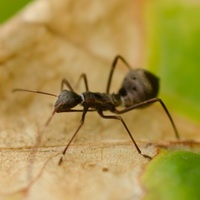insect: (13, 55, 179, 164)
